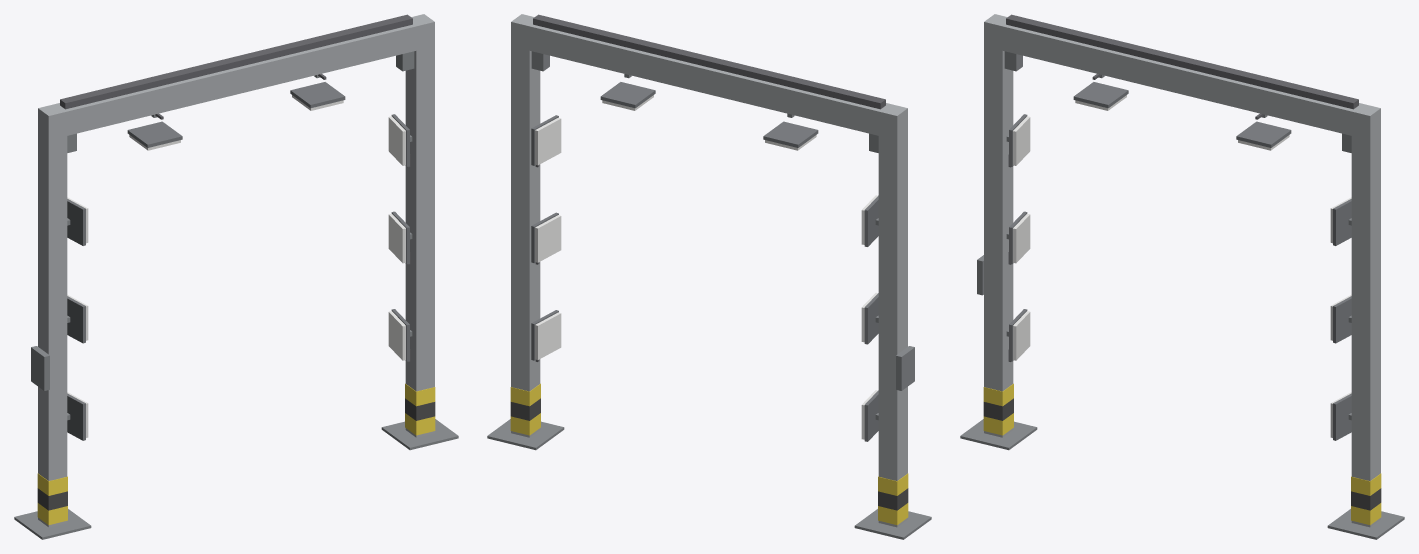
The model's file is rfid_gate.glb.
The picture shows the model from 3 angles, left to right: view 1: azimuth 30°, elevation 25°; view 2: azimuth 150°, elevation 25°; view 3: azimuth 330°, elevation 25°; orthographic projection.
Parts seen in each view (by area): view 1: part_10, part_0, part_5, part_45, part_6, part_1, part_38, part_42, part_46, part_14, part_18, part_22 (+3 smaller); view 2: part_10, part_0, part_5, part_45, part_6, part_1, part_27, part_31, part_35, part_38, part_42, part_46 (+3 smaller); view 3: part_10, part_5, part_0, part_45, part_1, part_6, part_42, part_38, part_26, part_30, part_34, part_15 (+2 smaller).
Boxes of the visible parts, bbox=[...] form: part_10: bbox=[38, 14, 434, 140]; part_0: bbox=[38, 133, 67, 527]; part_5: bbox=[405, 46, 434, 437]; part_45: bbox=[60, 14, 412, 109]; part_6: bbox=[381, 419, 458, 450]; part_1: bbox=[14, 509, 91, 539]; part_38: bbox=[127, 121, 182, 147]; part_42: bbox=[290, 82, 345, 108]; part_46: bbox=[31, 346, 49, 390]; part_14: bbox=[67, 393, 85, 440]; part_18: bbox=[67, 296, 85, 343]; part_22: bbox=[67, 199, 85, 245]; part_10: bbox=[511, 14, 907, 140]; part_0: bbox=[878, 133, 907, 527]; part_5: bbox=[511, 46, 540, 437]; part_45: bbox=[533, 14, 885, 109]; part_6: bbox=[487, 419, 564, 450]; part_1: bbox=[854, 509, 931, 539]; part_27: bbox=[535, 312, 561, 359]; part_31: bbox=[535, 215, 561, 262]; part_35: bbox=[535, 117, 561, 165]; part_38: bbox=[763, 121, 818, 147]; part_42: bbox=[600, 82, 655, 108]; part_46: bbox=[896, 346, 914, 390]; part_10: bbox=[984, 14, 1380, 140]; part_5: bbox=[1351, 133, 1380, 527]; part_0: bbox=[984, 46, 1013, 437]; part_45: bbox=[1006, 14, 1358, 109]; part_1: bbox=[960, 419, 1037, 450]; part_6: bbox=[1327, 509, 1404, 539]; part_42: bbox=[1236, 121, 1291, 147]; part_38: bbox=[1073, 82, 1128, 108]; part_26: bbox=[1333, 393, 1351, 440]; part_30: bbox=[1333, 296, 1351, 343]; part_34: bbox=[1333, 199, 1351, 245]; part_15: bbox=[1013, 311, 1030, 360].
Bounding box in the file's own units: 3.58 × 3.45 × 0.42.
